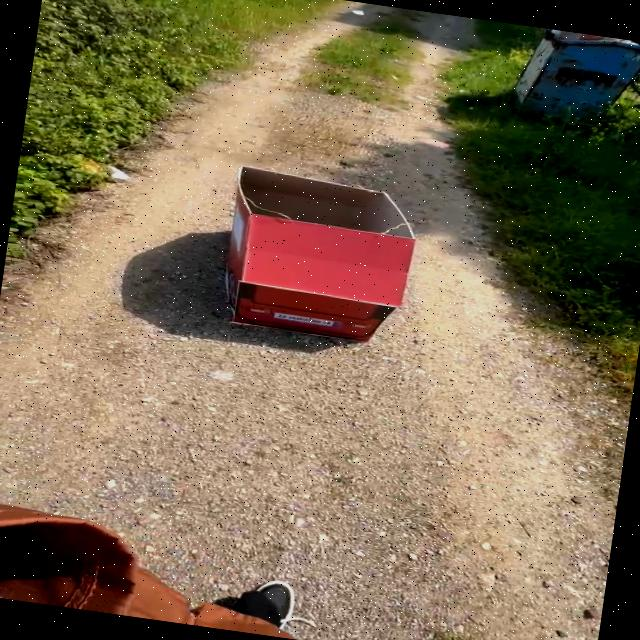red_car: (184, 161, 440, 362)
